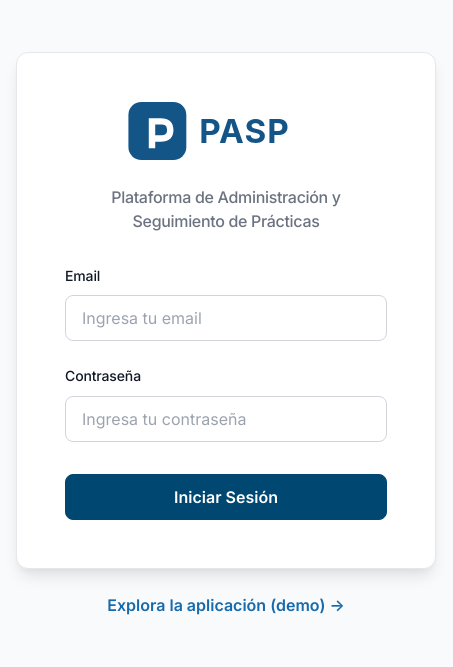
Login › muestra el mensaje que devuelve la API cuando el login falla
This screenshot has width=453, height=667.
In the field labelled "Email": (226, 318) [65,295,387,341], type "ana@test.com"
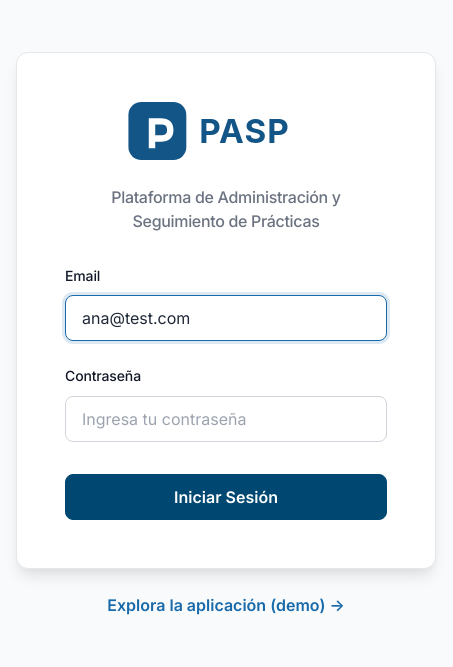
In the password field labelled "Contraseña": (226, 419) [65,396,387,442], type "incorrecta"
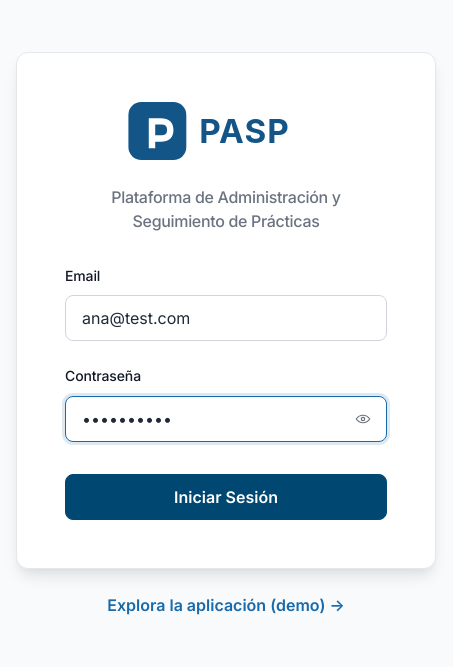
Click the button "Iniciar Sesión": (226, 497) [65,474,387,520]
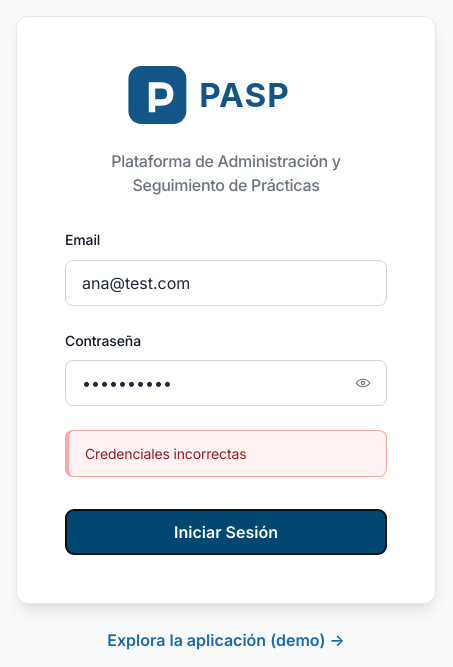
Now the message reads "Credenciales incorrectas", box [85,445,246,462]
